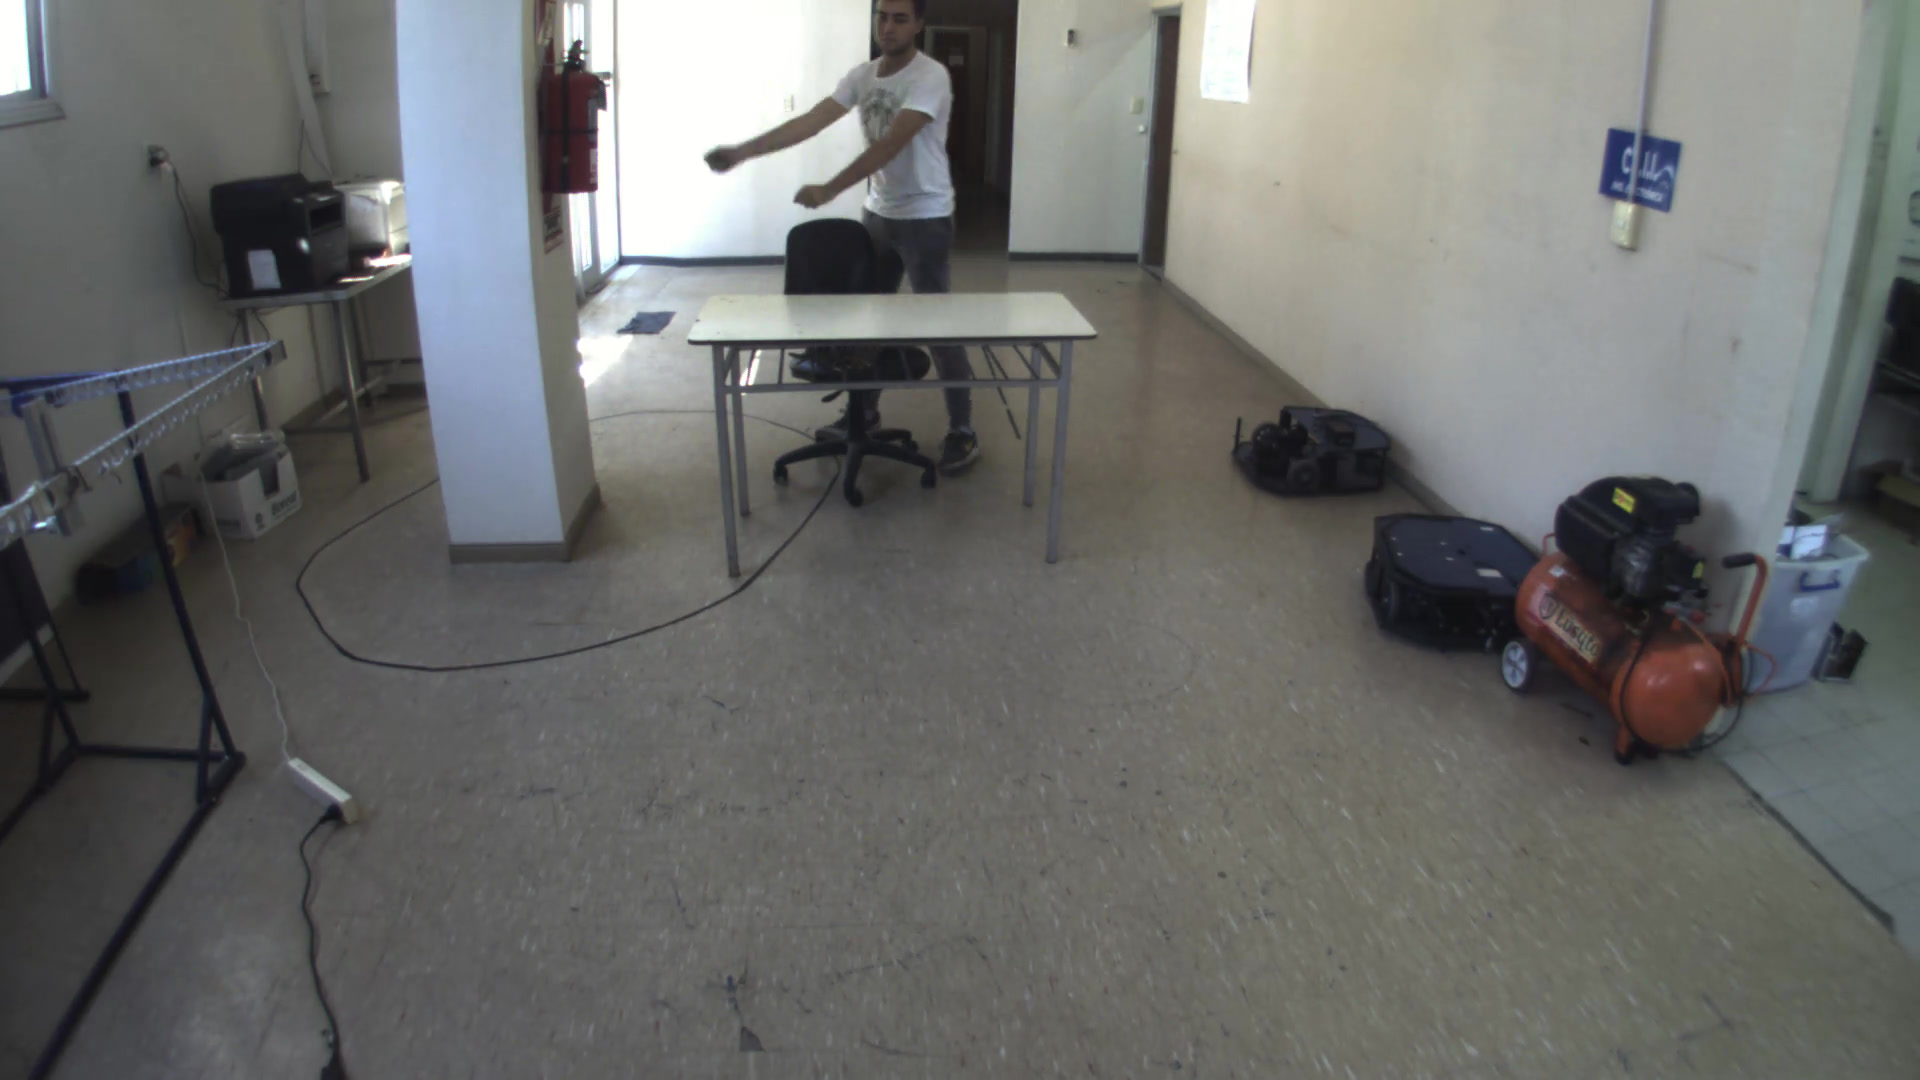hand: (698, 137, 742, 185), (789, 179, 833, 212)
